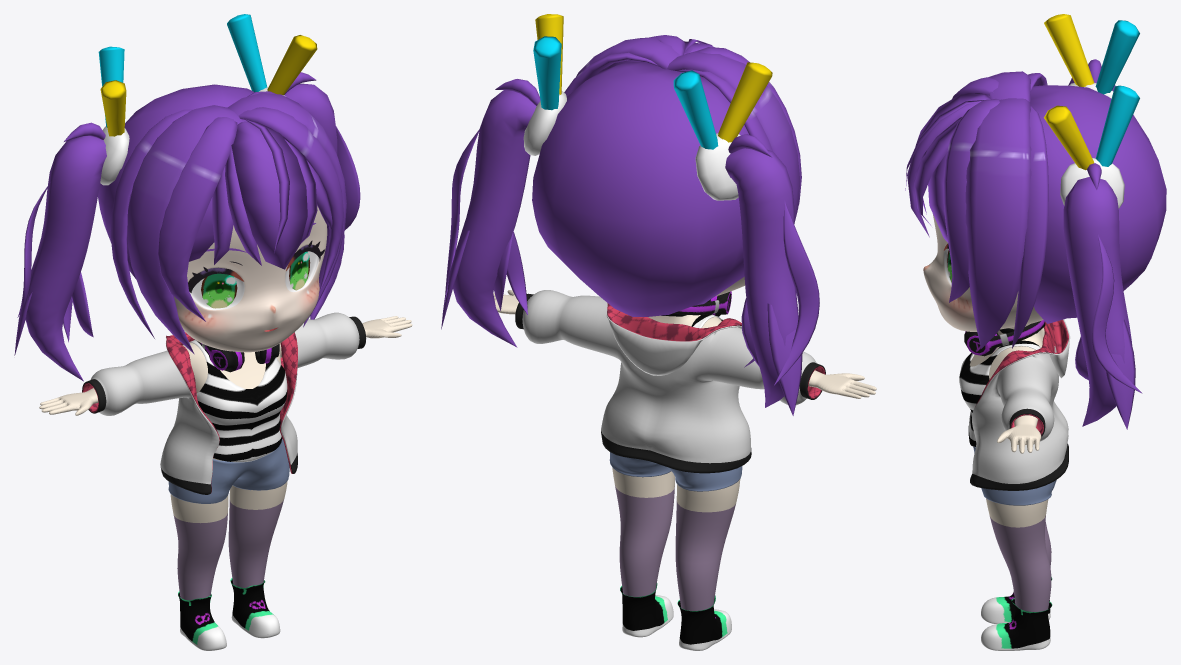
The model's file is animyuko_mini.glb.
The picture shows the model from 3 angles, left to right: view 1: azimuth 30°, elevation 25°; view 2: azimuth 150°, elevation 25°; view 3: azimuth 270°, elevation 25°; orthographic projection. The views are drawn at different scales.
Parts seen in each view (by area): view 1: hair.side.003, hair.tale.004, hair.front.005, body, jacket, body.head, cloth.tops, penlight, hair.back, shoes, pant, jacket.ura (+5 smaller); view 2: hair.back, hair.tale.004, jacket, body, hair.side.003, penlight, shoes, penlight.stand, pant, jacket.ura, headphone; view 3: hair.side.003, hair.back, hair.tale.004, jacket, body, penlight, hair.front.005, shoes, body.head, cloth.tops, jacket.ura, penlight.stand (+2 smaller).
Boxes of the visible parts, bbox=[...] form: hair.side.003: bbox=[110, 91, 346, 354]; hair.tale.004: bbox=[14, 72, 360, 381]; hair.front.005: bbox=[189, 119, 332, 269]; body: bbox=[39, 316, 412, 600]; jacket: bbox=[82, 312, 366, 494]; body.head: bbox=[174, 206, 327, 352]; cloth.tops: bbox=[189, 339, 287, 462]; penlight: bbox=[98, 14, 317, 136]; hair.back: bbox=[98, 84, 254, 279]; shoes: bbox=[178, 578, 280, 650]; pant: bbox=[168, 439, 289, 503]; jacket.ura: bbox=[82, 332, 297, 492]; hair.back: bbox=[532, 61, 748, 316]; hair.tale.004: bbox=[441, 79, 819, 415]; jacket: bbox=[515, 290, 825, 473]; body: bbox=[493, 290, 876, 610]; hair.side.003: bbox=[564, 35, 801, 223]; penlight: bbox=[533, 14, 772, 149]; shoes: bbox=[620, 583, 731, 650]; penlight.stand: bbox=[523, 91, 740, 200]; pant: bbox=[609, 452, 742, 491]; jacket.ura: bbox=[607, 303, 825, 398]; headphone: bbox=[674, 291, 731, 316]; hair.side.003: bbox=[943, 71, 1048, 348]; hair.back: bbox=[1030, 85, 1166, 323]; hair.tale.004: bbox=[1063, 59, 1142, 429]; jacket: bbox=[970, 319, 1070, 490]; body: bbox=[970, 324, 1051, 611]; penlight: bbox=[1044, 14, 1139, 170]; hair.front.005: bbox=[905, 94, 990, 242]; shoes: bbox=[981, 577, 1052, 650]; body.head: bbox=[923, 214, 1043, 331]; cloth.tops: bbox=[959, 327, 1043, 446]; jacket.ura: bbox=[975, 319, 1068, 435]; penlight.stand: bbox=[1060, 83, 1124, 208].
Size of the model in its own units: 0.7013 by 1.02 by 0.4187.
Materials: 21 (15 with a texture image).
